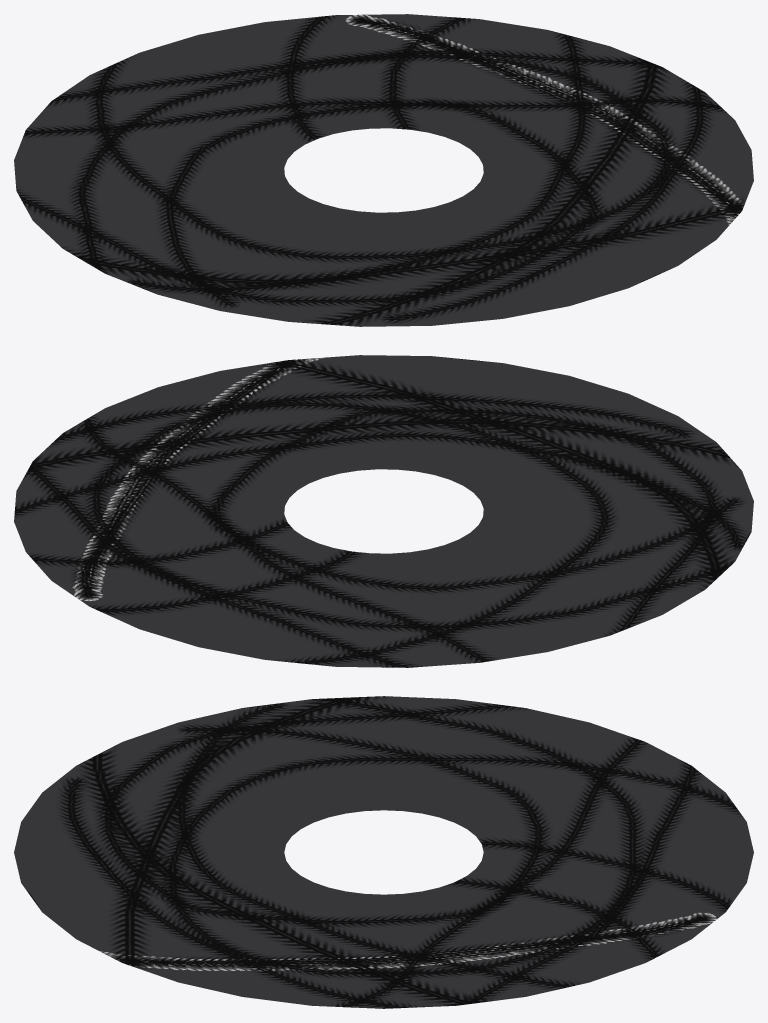
Rendered from driftCircle.fbx.
The picture shows the model from 3 angles, top to bottom: view 1: azimuth 30°, elevation 25°; view 2: azimuth 150°, elevation 25°; view 3: azimuth 270°, elevation 25°; orthographic projection.
Visible parts, largest first — view 1: Circle; view 2: Circle; view 3: Circle.
Part boxes in pixels (bbox=[...]): Circle: bbox=[14, 14, 753, 326]; Circle: bbox=[14, 355, 753, 667]; Circle: bbox=[14, 696, 753, 1008].
Bounding box in the file's own units: 7378 × 0.0012 × 7378.
Materials: 1 (1 with a texture image).
